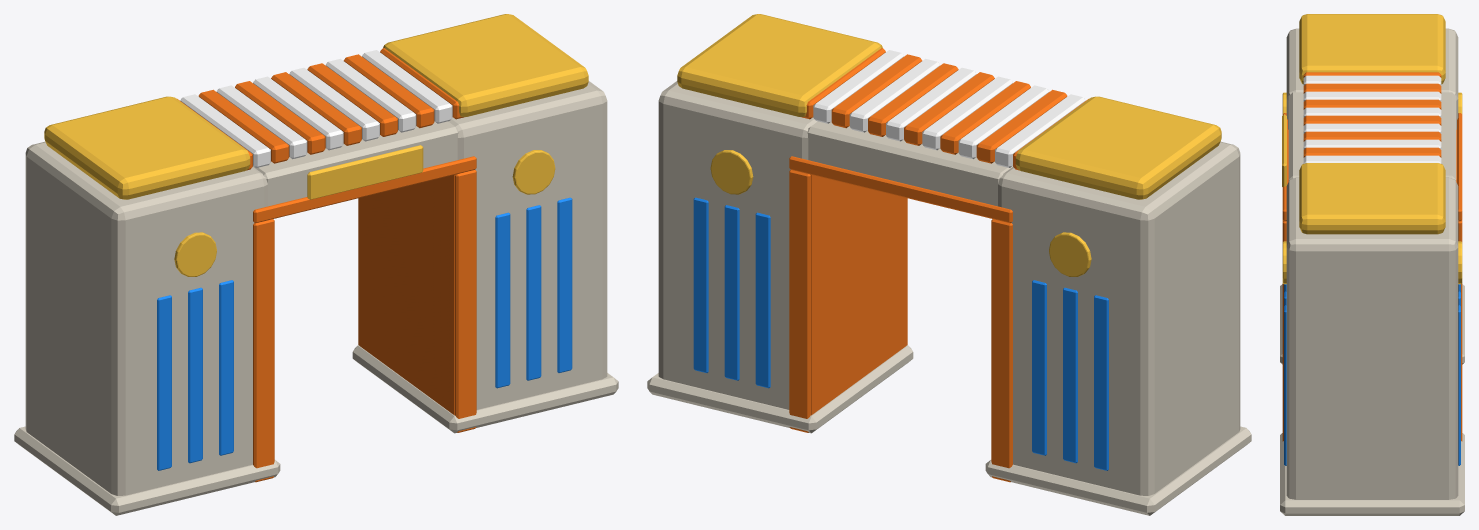
The model's file is stade_tunnel.fbx.
The picture shows the model from 3 angles, left to right: view 1: azimuth 30°, elevation 25°; view 2: azimuth 150°, elevation 25°; view 3: azimuth 270°, elevation 25°; orthographic projection. The views are drawn at different scales.
Parts seen in each view (by area): view 1: stade_tunnel_Pierre, stade_tunnel_Orange, stade_tunnel_Or, stade_tunnel_Bleu, stade_tunnel_Blanc, stade_tunnel_Plaque; view 2: stade_tunnel_Pierre, stade_tunnel_Orange, stade_tunnel_Or, stade_tunnel_Bleu, stade_tunnel_Blanc; view 3: stade_tunnel_Pierre, stade_tunnel_Or, stade_tunnel_Orange, stade_tunnel_Blanc, stade_tunnel_Bleu, stade_tunnel_Plaque.
Boxes of the visible parts, bbox=[...] form: stade_tunnel_Pierre: bbox=[14, 81, 618, 515]; stade_tunnel_Orange: bbox=[177, 48, 476, 482]; stade_tunnel_Or: bbox=[44, 14, 588, 276]; stade_tunnel_Bleu: bbox=[157, 197, 572, 470]; stade_tunnel_Blanc: bbox=[180, 50, 452, 167]; stade_tunnel_Plaque: bbox=[307, 145, 423, 199]; stade_tunnel_Pierre: bbox=[647, 81, 1251, 515]; stade_tunnel_Orange: bbox=[789, 48, 1088, 482]; stade_tunnel_Or: bbox=[677, 14, 1221, 276]; stade_tunnel_Bleu: bbox=[693, 197, 1108, 470]; stade_tunnel_Blanc: bbox=[813, 50, 1085, 167]; stade_tunnel_Pierre: bbox=[1280, 28, 1464, 515]; stade_tunnel_Or: bbox=[1282, 14, 1462, 284]; stade_tunnel_Orange: bbox=[1282, 72, 1462, 441]; stade_tunnel_Blanc: bbox=[1303, 75, 1441, 163]; stade_tunnel_Bleu: bbox=[1284, 284, 1460, 465]; stade_tunnel_Plaque: bbox=[1282, 114, 1286, 187].
Size of the model in its own units: 123 by 75 by 43.
